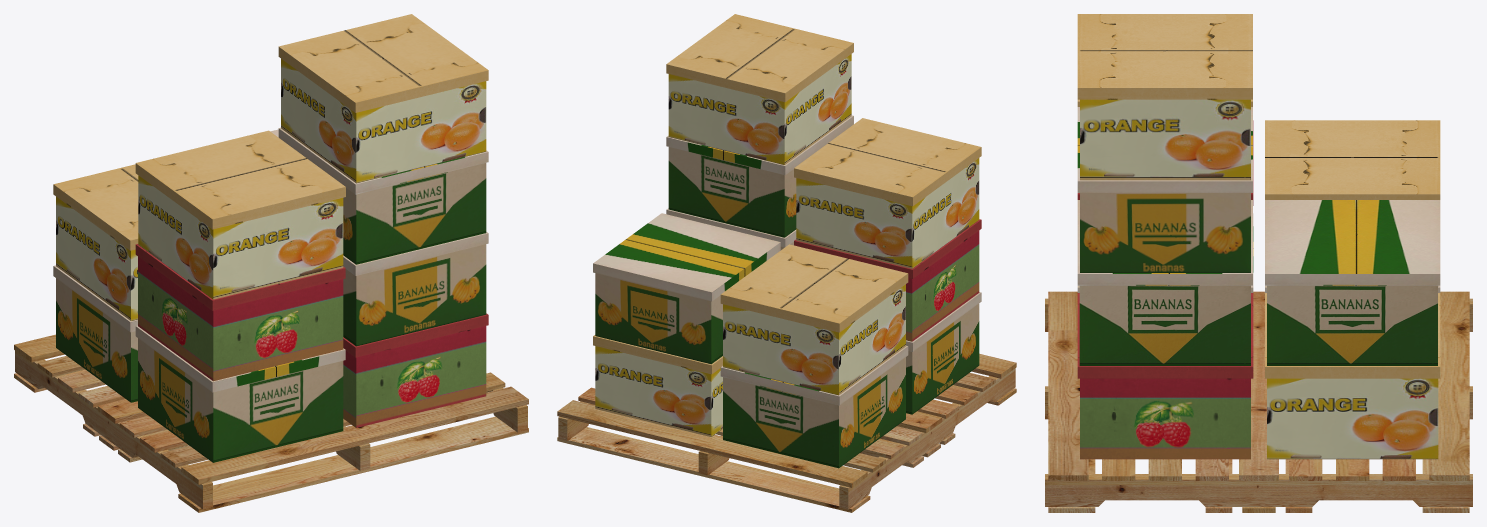
File: Cardboard_boxGroup02c.FBX
The picture shows the model from 3 angles, left to right: view 1: azimuth 30°, elevation 25°; view 2: azimuth 150°, elevation 25°; view 3: azimuth 270°, elevation 25°; orthographic projection. The views are drawn at different scales.
Visible parts, largest first — view 1: Cardboard_boxGroup02c2, Cardboard_boxGroup02c1, Cardboard_boxG02c; view 2: Cardboard_boxGroup02c2, Cardboard_boxG02c, Cardboard_boxGroup02c1; view 3: Cardboard_boxGroup02c2, Cardboard_boxG02c, Cardboard_boxGroup02c1.
Boxes of the visible parts, left/top/right/bottom form: Cardboard_boxGroup02c2: left=53, top=14, right=488, bottom=462; Cardboard_boxGroup02c1: left=135, top=244, right=488, bottom=427; Cardboard_boxG02c: left=14, top=334, right=528, bottom=512; Cardboard_boxGroup02c2: left=593, top=14, right=981, bottom=468; Cardboard_boxG02c: left=557, top=353, right=1016, bottom=512; Cardboard_boxGroup02c1: left=794, top=219, right=981, bottom=341; Cardboard_boxGroup02c2: left=1077, top=14, right=1440, bottom=459; Cardboard_boxG02c: left=1045, top=291, right=1472, bottom=512; Cardboard_boxGroup02c1: left=1077, top=120, right=1253, bottom=459.
Size of the model in its own units: 2.16 by 2.24 by 2.12.
